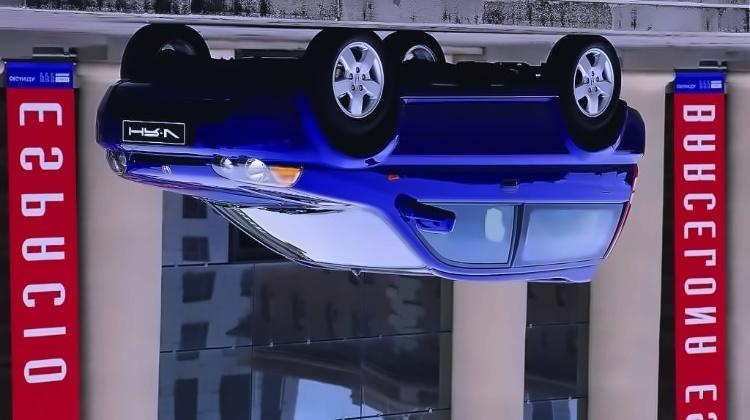Car hood: (117, 172, 360, 217)
Driver-s door - -F-R-: (387, 62, 534, 287)
Fender - -F-R-: (294, 65, 413, 222)
Fender - -R-R-: (521, 81, 656, 207)
Front bumper: (90, 73, 328, 164)
Headlight - -R-: (212, 155, 301, 188)
Side bumper - -R-: (385, 62, 570, 129)
Side mirror - -R-: (392, 190, 455, 233)
